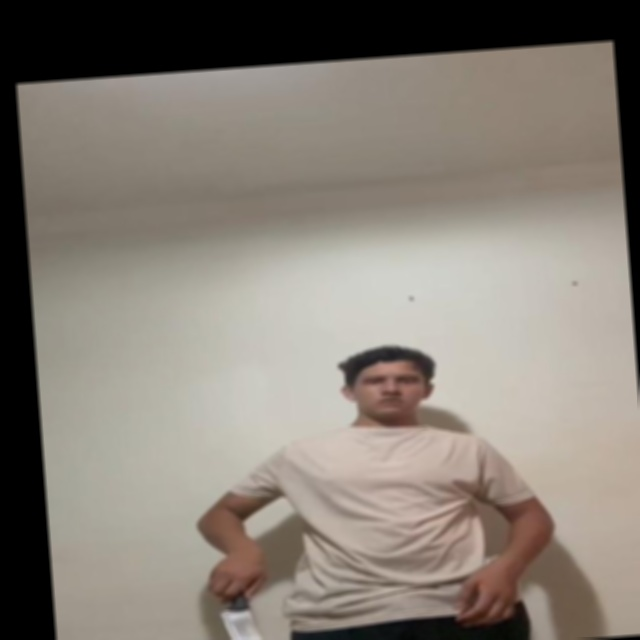Sharp-Object: (220, 604, 270, 640)
